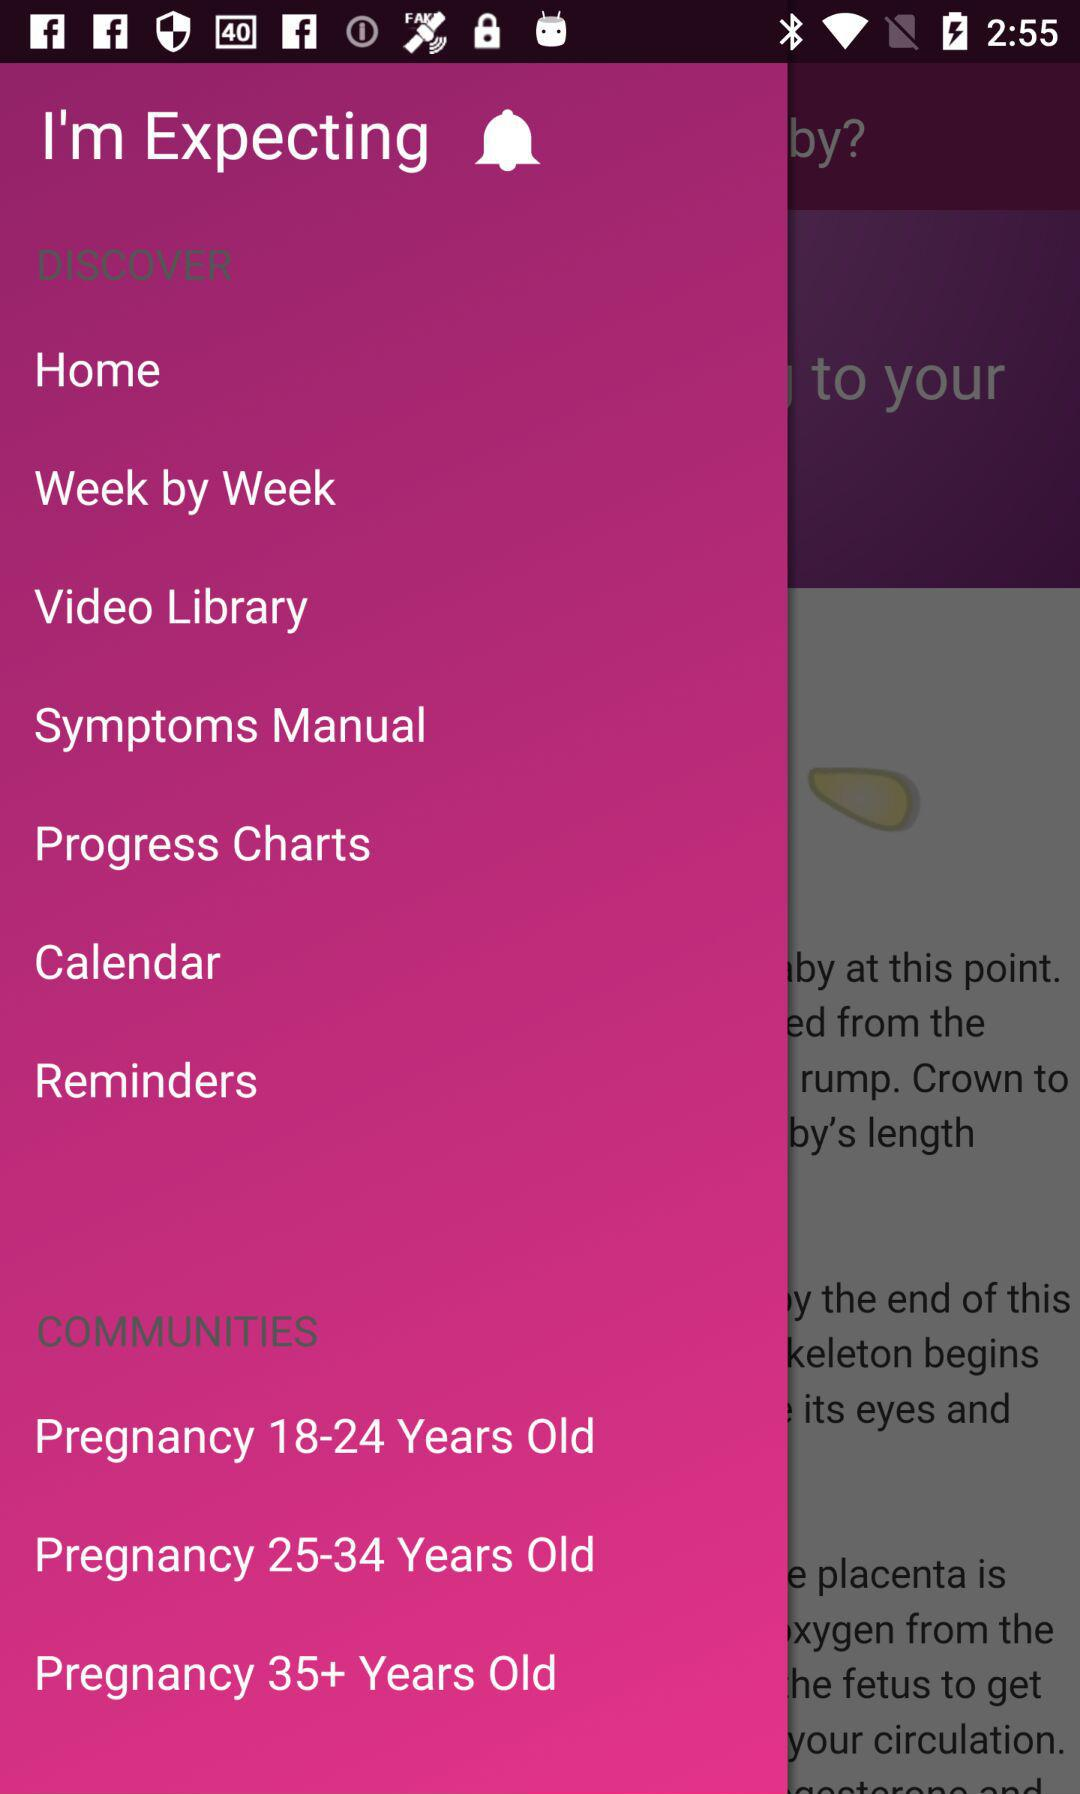Drawer: (1, 64, 788, 1794)
Icon: (474, 108, 543, 174)
Text: (36, 1415, 596, 1465), (36, 1535, 594, 1583), (45, 108, 429, 176), (36, 1652, 557, 1702), (35, 705, 427, 753), (37, 823, 372, 871), (35, 468, 338, 518), (35, 586, 310, 636), (37, 1313, 319, 1349), (37, 1060, 258, 1099), (38, 246, 233, 284), (35, 942, 222, 982), (37, 351, 161, 390)
UpperTaskBar: (1, 1, 1080, 64)
